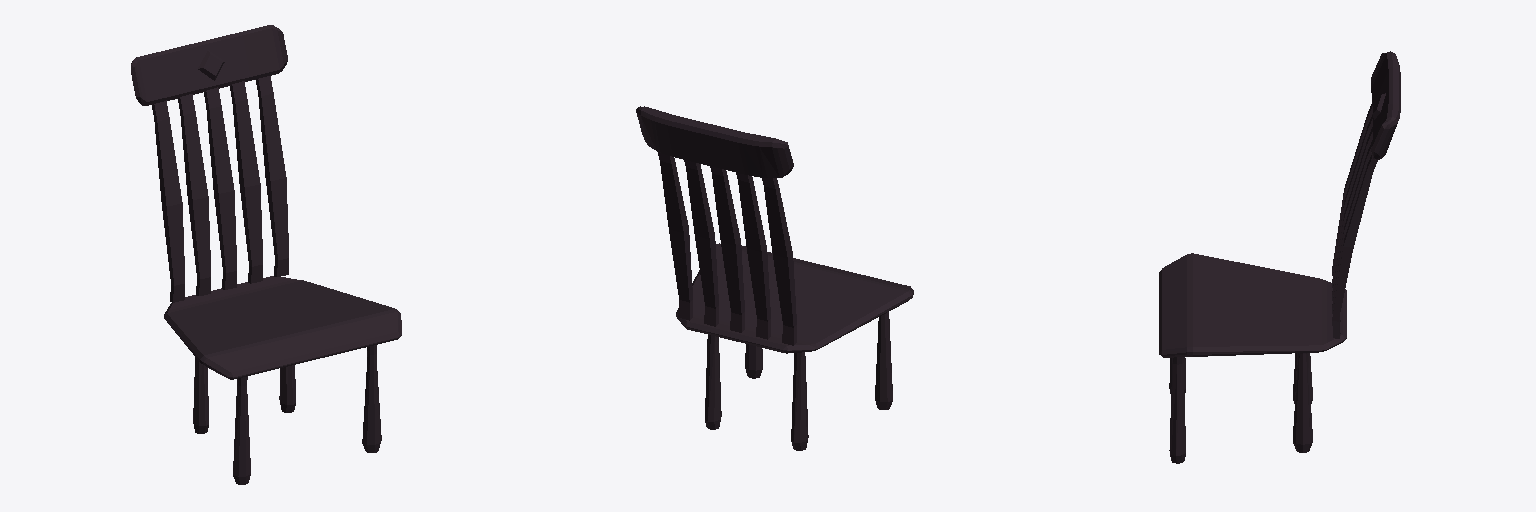
Rendered from BetterChair.obj.
The picture shows the model from 3 angles: view 1: azimuth 30°, elevation 25°; view 2: azimuth 150°, elevation 25°; view 3: azimuth 270°, elevation 25°; orthographic projection.
Parts seen in each view (by area): view 1: pCube1 Pillar Pillar2 Pillar3 Pillar4 Pillar5, pCube1, pCube1 Pillar2 Backing, pCube1 Leg Leg2 Leg3 Leg4; view 2: pCube1 Pillar Pillar2 Pillar3 Pillar4 Pillar5, pCube1, pCube1 Pillar2 Backing, pCube1 Leg Leg2 Leg3 Leg4; view 3: pCube1, pCube1 Pillar Pillar2 Pillar3 Pillar4 Pillar5, pCube1 Leg Leg2 Leg3 Leg4, pCube1 Pillar2 Backing.
Boxes of the visible parts, <box> form: pCube1 Pillar Pillar2 Pillar3 Pillar4 Pillar5: <box>152,76,288,302</box>; pCube1: <box>164,276,401,379</box>; pCube1 Pillar2 Backing: <box>131,25,287,105</box>; pCube1 Leg Leg2 Leg3 Leg4: <box>193,345,381,484</box>; pCube1 Pillar Pillar2 Pillar3 Pillar4 Pillar5: <box>658,152,796,345</box>; pCube1: <box>676,243,913,353</box>; pCube1 Pillar2 Backing: <box>636,106,793,177</box>; pCube1 Leg Leg2 Leg3 Leg4: <box>705,312,892,450</box>; pCube1: <box>1159,253,1346,357</box>; pCube1 Pillar Pillar2 Pillar3 Pillar4 Pillar5: <box>1332,102,1377,338</box>; pCube1 Leg Leg2 Leg3 Leg4: <box>1169,353,1312,463</box>; pCube1 Pillar2 Backing: <box>1371,51,1400,159</box>.
Bounding box in the file's own units: 9.2 × 15.29 × 9.66.